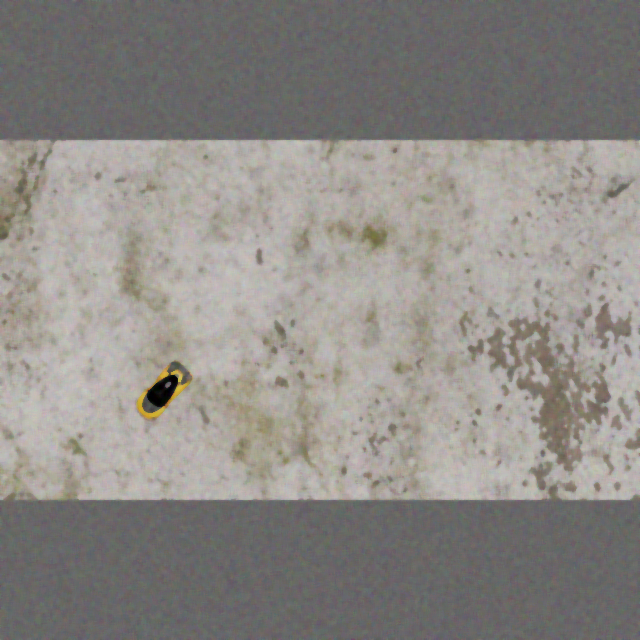car: (127, 355, 199, 426)
